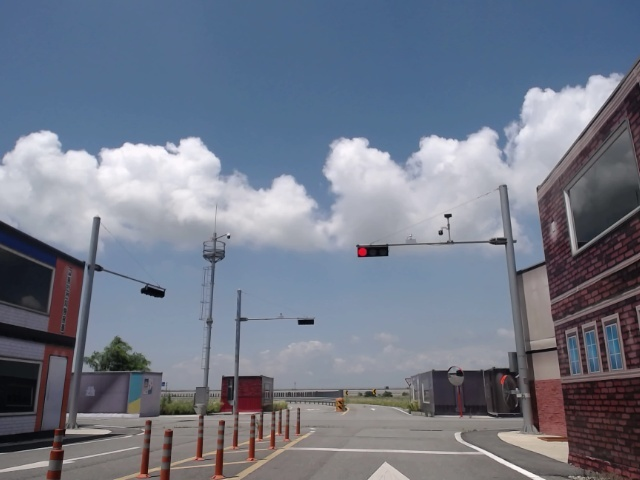red_3: (356, 246, 390, 258)
